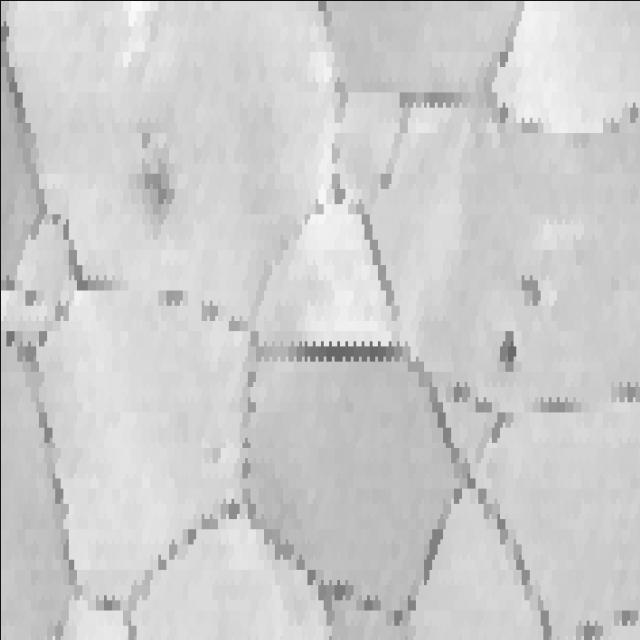good_void: (284, 328, 404, 370), (136, 126, 177, 221), (513, 264, 542, 309), (494, 323, 519, 372), (576, 622, 598, 639)
